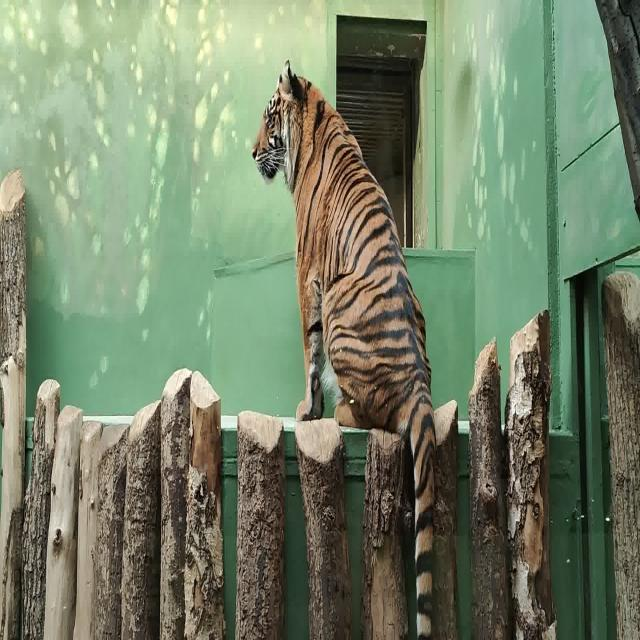tiger: (252, 59, 436, 640)
